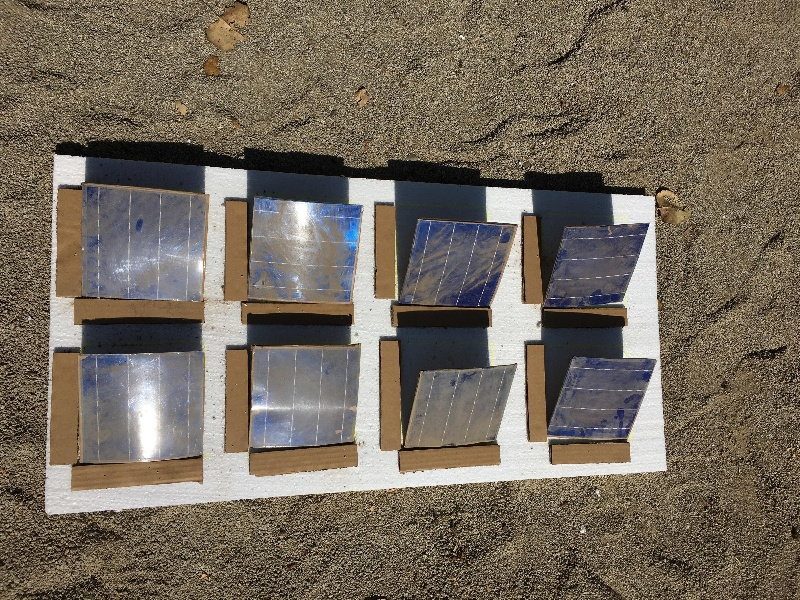dirty: (86, 183, 206, 304), (72, 355, 206, 460), (250, 197, 357, 302), (249, 350, 365, 443), (546, 356, 654, 446), (540, 223, 655, 305), (403, 366, 522, 443), (400, 223, 509, 305)
